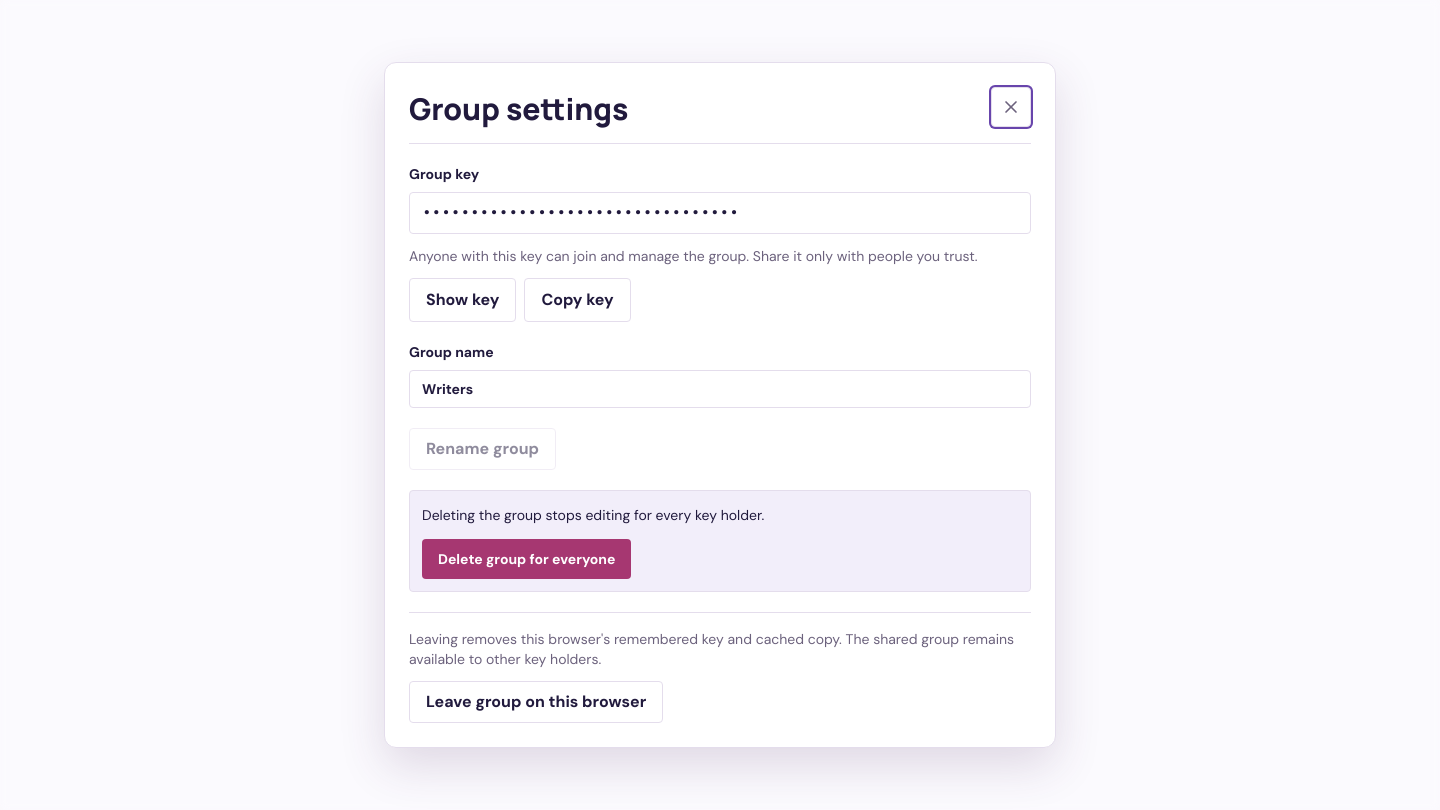
it: offers manual copying when clipboard access fails
Click the button "Copy key" at (578,300), box [524,278,631,322]
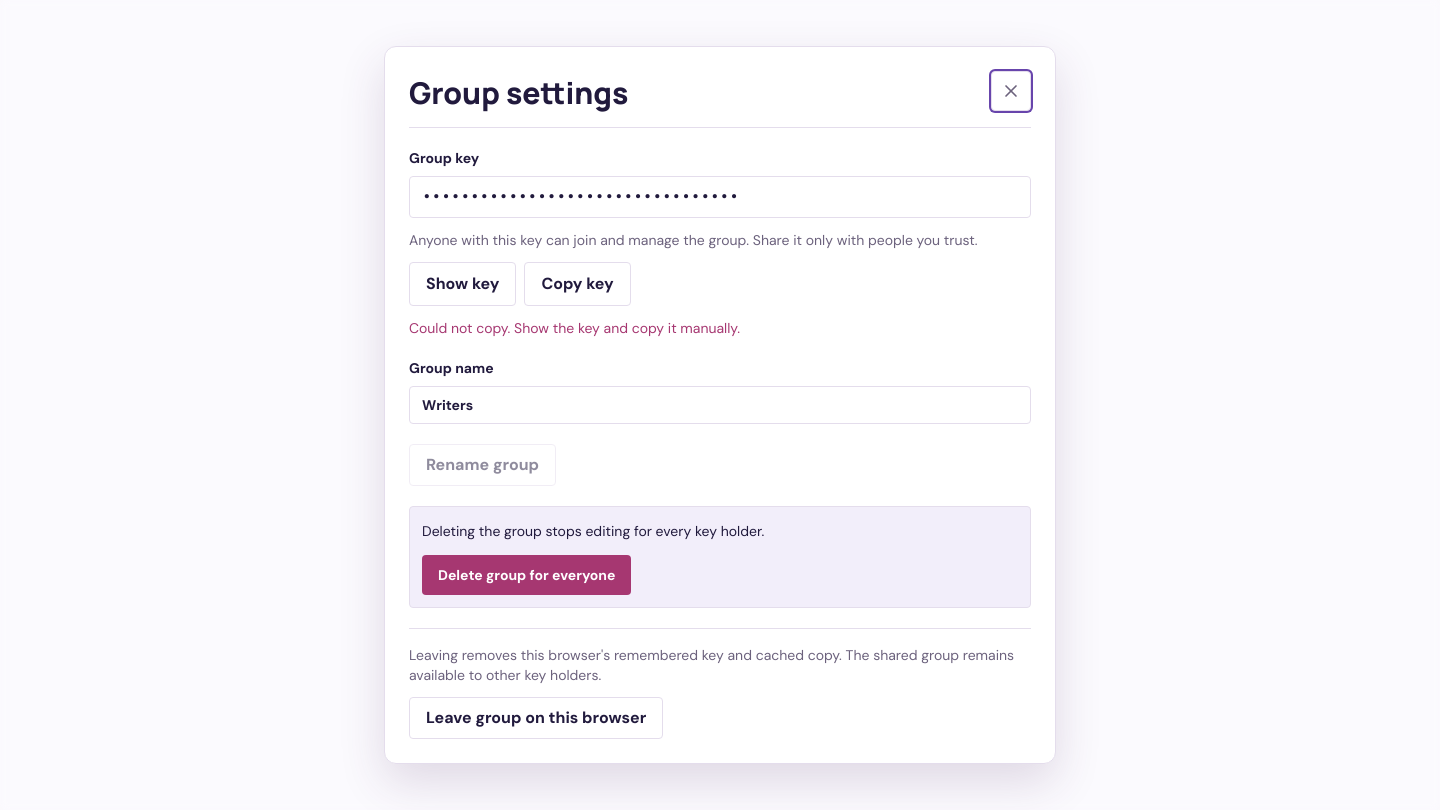
Expected: the message shows "Show the key and copy it manually", [409,319,740,337]
